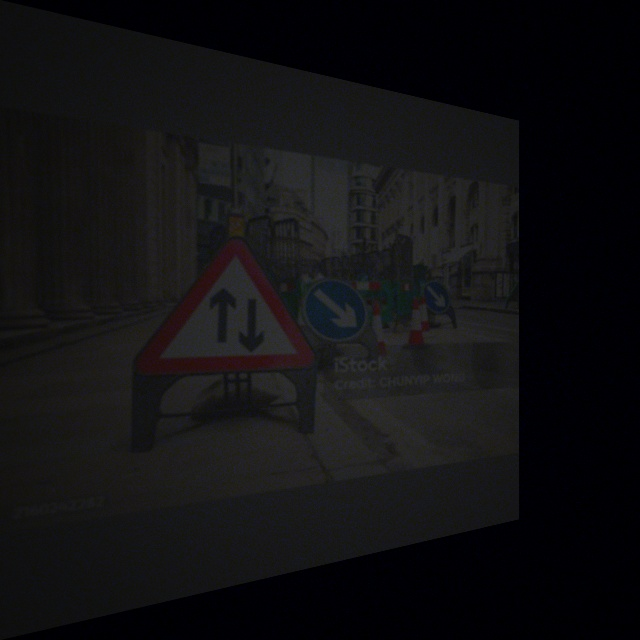Mandatory_Two_Way_Traffic: (145, 227, 312, 381)
